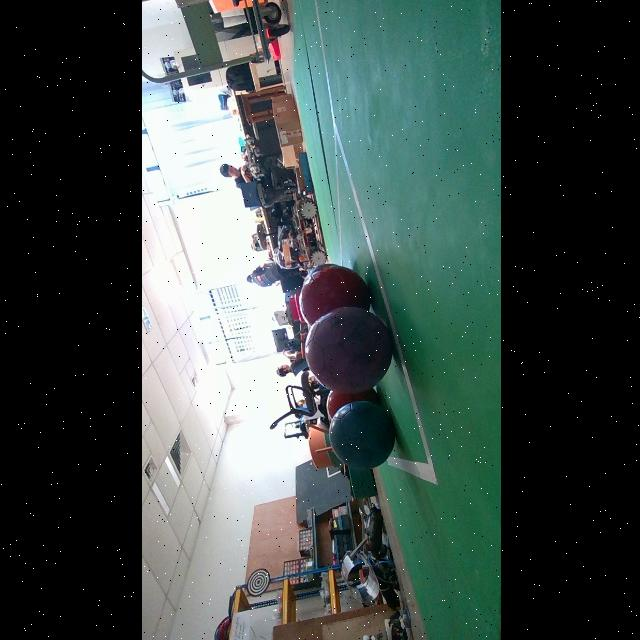B: (327, 401, 393, 468)
P: (304, 306, 391, 393)
R: (297, 263, 369, 324), (325, 389, 377, 419)
